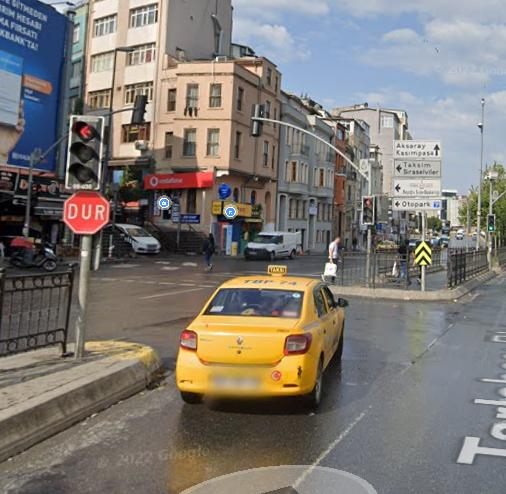greenlight: (488, 215, 494, 231)
redlight: (69, 118, 102, 185), (363, 196, 372, 222)
stop: (68, 190, 110, 231)
